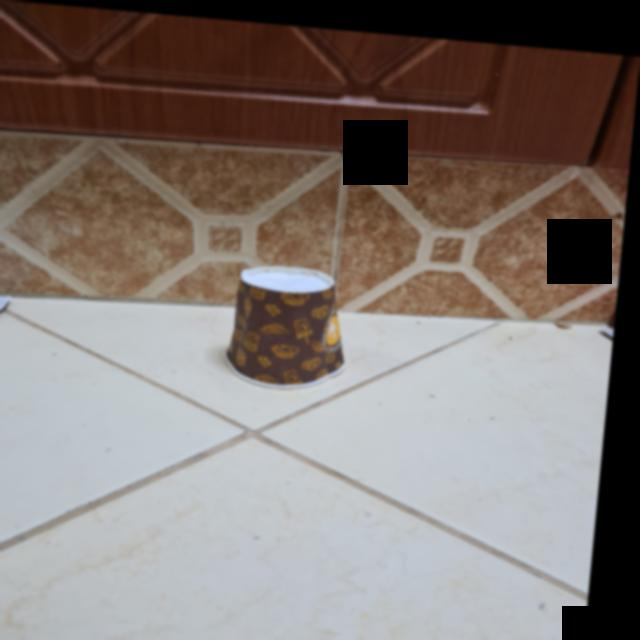cups: (229, 254, 358, 388)
